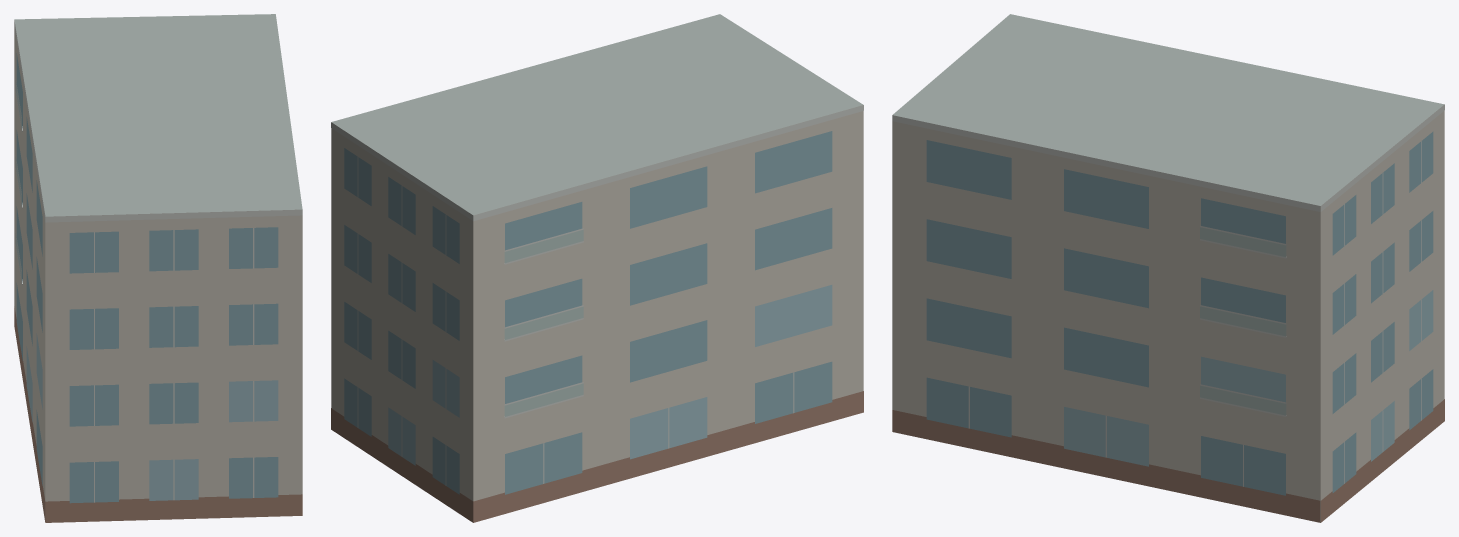
Rendered from survey-upis-32731117.glb.
The picture shows the model from 3 angles, left to right: view 1: azimuth 30°, elevation 25°; view 2: azimuth 150°, elevation 25°; view 3: azimuth 270°, elevation 25°; orthographic projection. The views are drawn at different scales.
Visible parts, largest first — view 1: survey-upis-32731117.tmp; view 2: survey-upis-32731117.tmp; view 3: survey-upis-32731117.tmp.
Boxes of the visible parts, x1=… form: survey-upis-32731117.tmp: x1=14, y1=14, x2=302, y2=522; survey-upis-32731117.tmp: x1=331, y1=14, x2=863, y2=522; survey-upis-32731117.tmp: x1=892, y1=14, x2=1444, y2=522.
Bounding box in the file's own units: 16.65 × 12.8 × 20.24.
